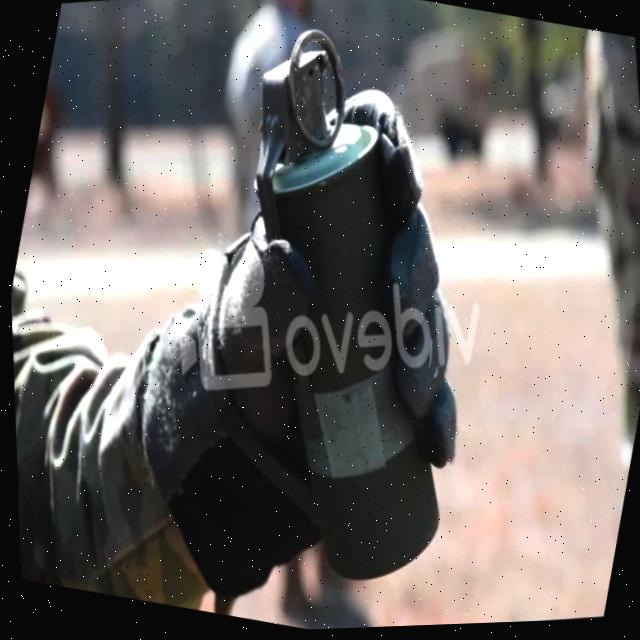grenade: (124, 0, 562, 634)
